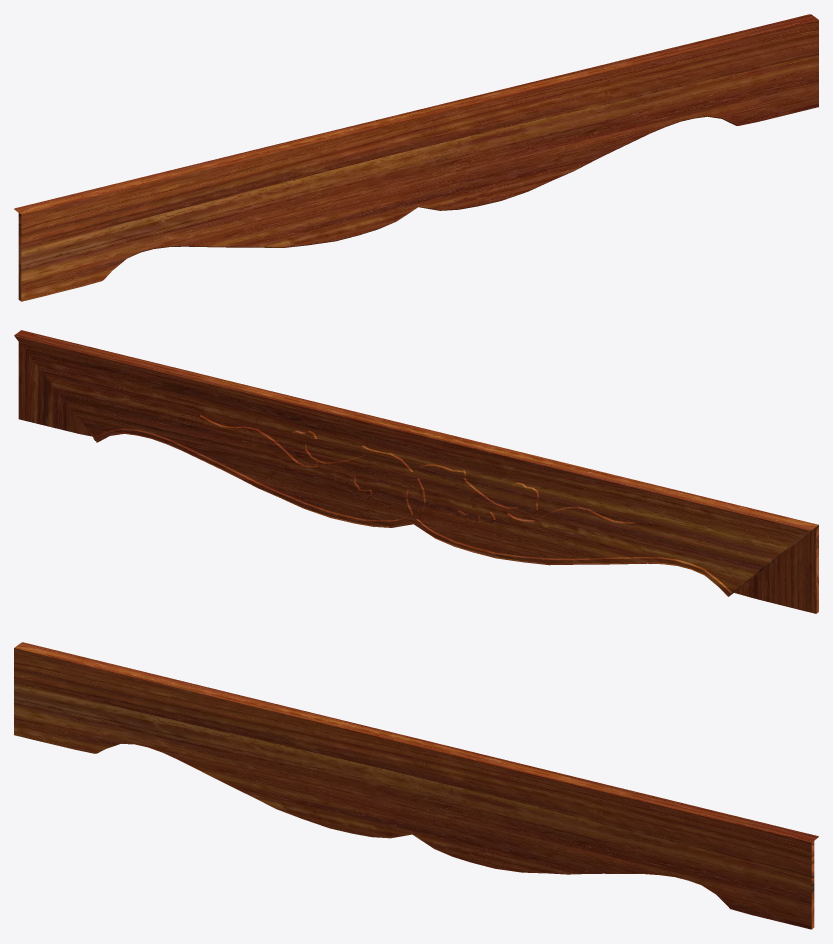
Rendered from quanyi_J_juankou_shang.FBX.
The picture shows the model from 3 angles, top to bottom: view 1: azimuth 30°, elevation 25°; view 2: azimuth 150°, elevation 25°; view 3: azimuth 330°, elevation 25°; orthographic projection.
Visible parts, largest first — view 1: quanyi_J_juankou_shang; view 2: quanyi_J_juankou_shang; view 3: quanyi_J_juankou_shang.
Boxes of the visible parts, <box> form: quanyi_J_juankou_shang: <box>14,14,818,301</box>; quanyi_J_juankou_shang: <box>14,330,818,613</box>; quanyi_J_juankou_shang: <box>14,642,818,929</box>.
Bounding box in the file's own units: 51.75 × 6.51 × 1.07.
Materials: 2 (2 with a texture image).
